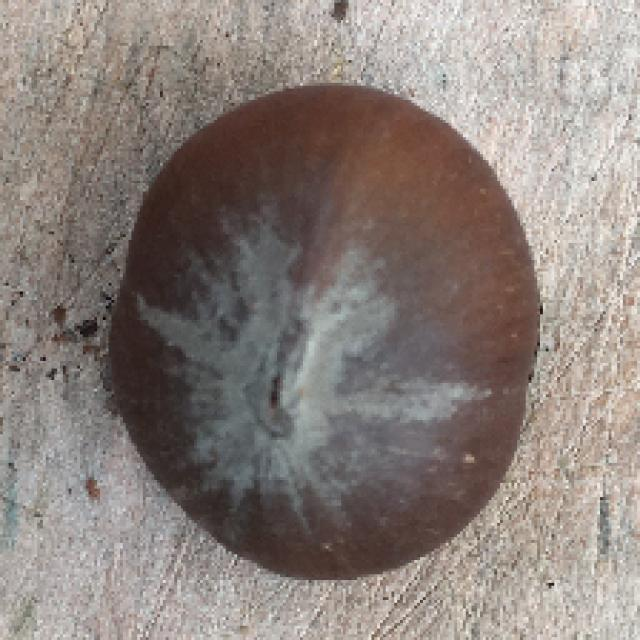damagedHazelnut: (97, 80, 546, 581)
